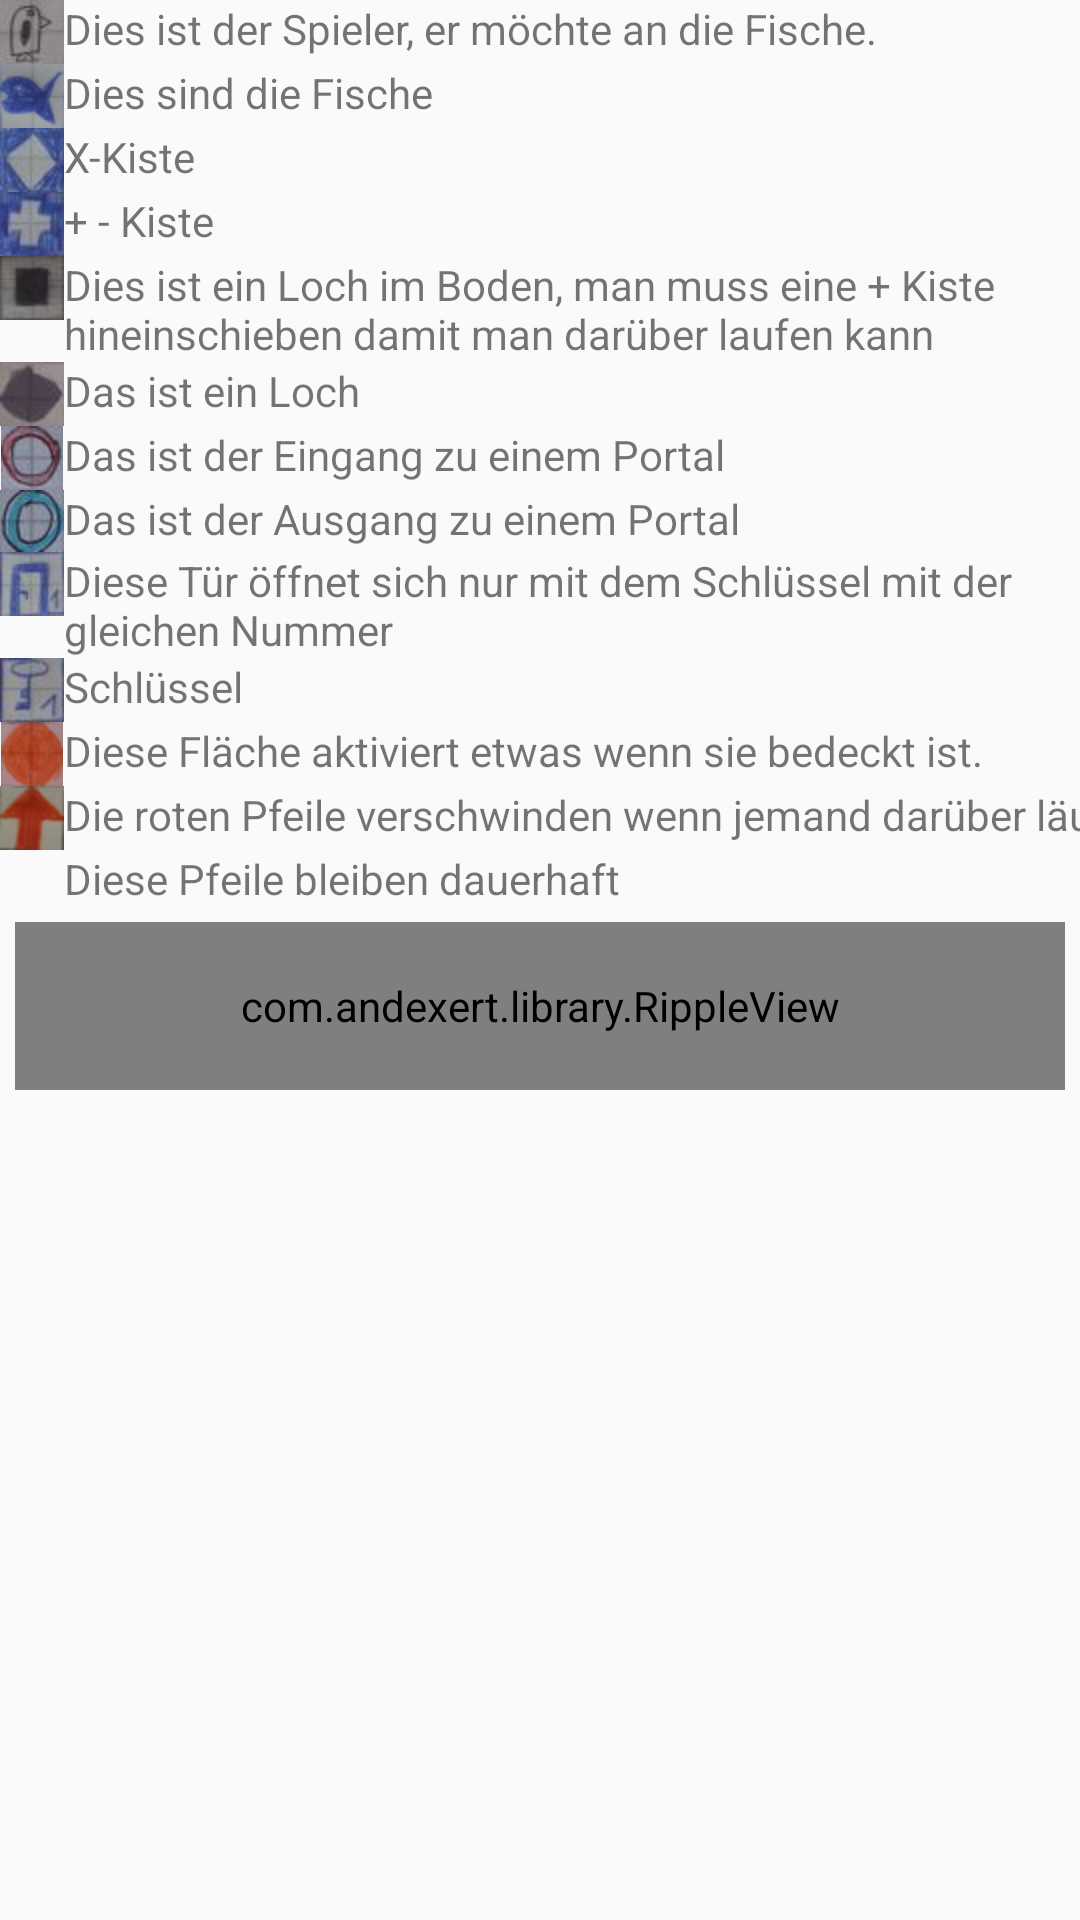

Where to tap for icons on this 1080x1920 app screen, as (x=x, y=y):
arrow up: (x=32, y=818)
door: (x=32, y=584)
fish: (x=32, y=96)
key: (x=32, y=690)
player: (x=32, y=32)
